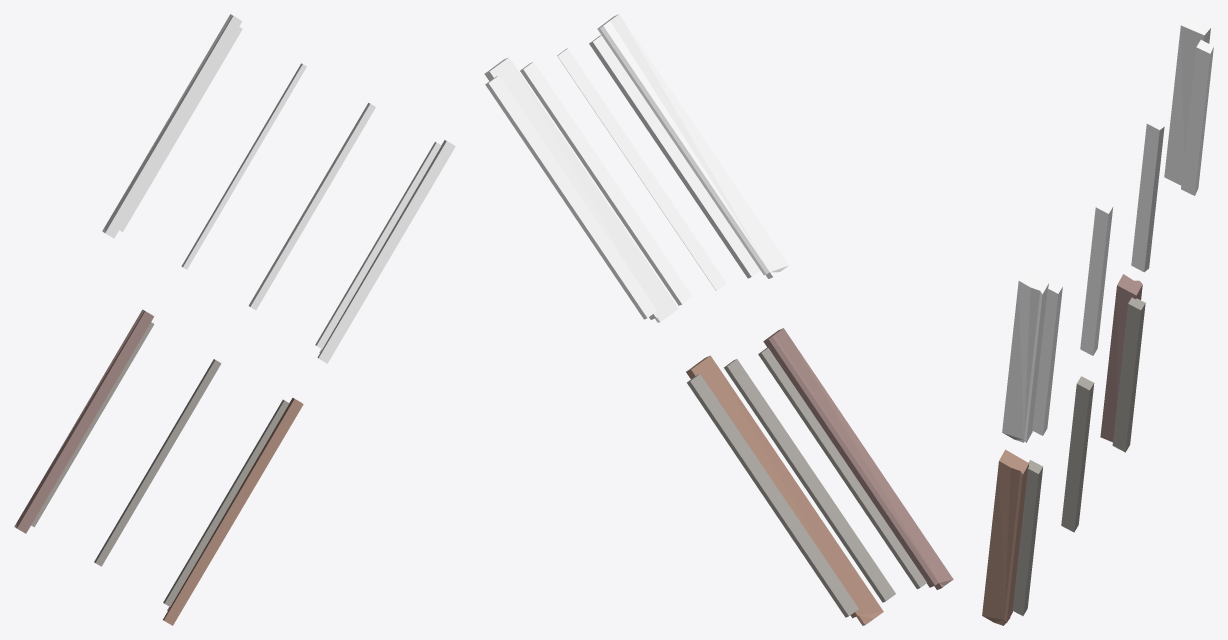
3 views of the same model, side by side, from view 1: azimuth 30°, elevation 25°; view 2: azimuth 150°, elevation 25°; view 3: azimuth 270°, elevation 25° (orthographic). The views are drawn at different scales.
Parts seen in each view (by area): view 1: mesh; view 2: mesh; view 3: mesh.
Part boxes in pixels (bbox=[...]): mesh: bbox=[14, 14, 455, 625]; mesh: bbox=[484, 14, 953, 625]; mesh: bbox=[982, 14, 1213, 625].
Bounding box in the file's own units: 4.78 × 5.81 × 1.75.
